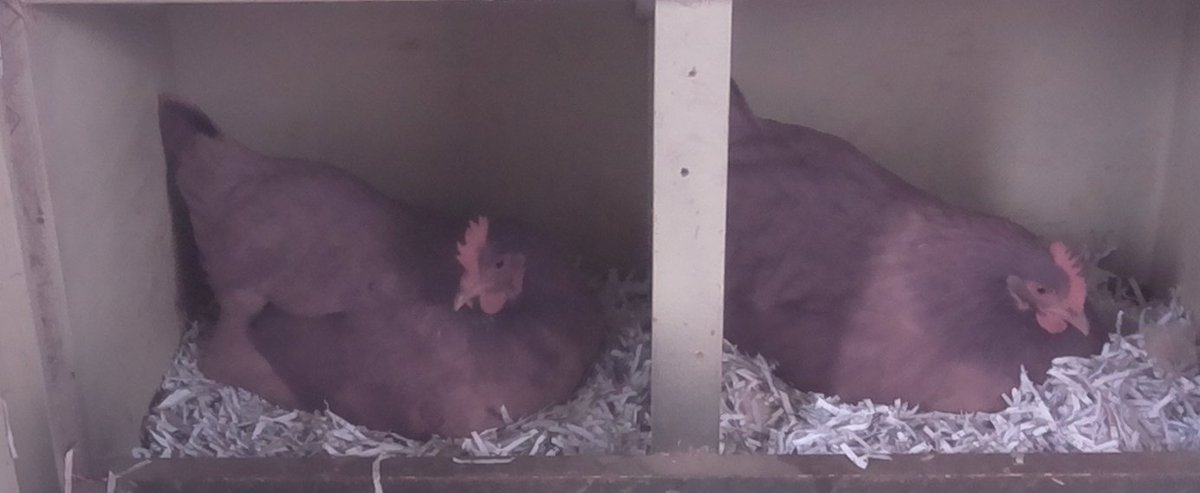hen: (150, 87, 607, 439), (730, 75, 1107, 419)
